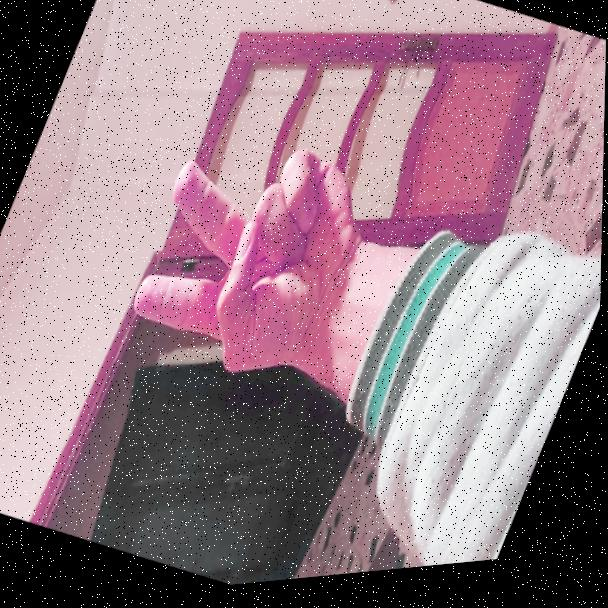two: (106, 98, 387, 414)
